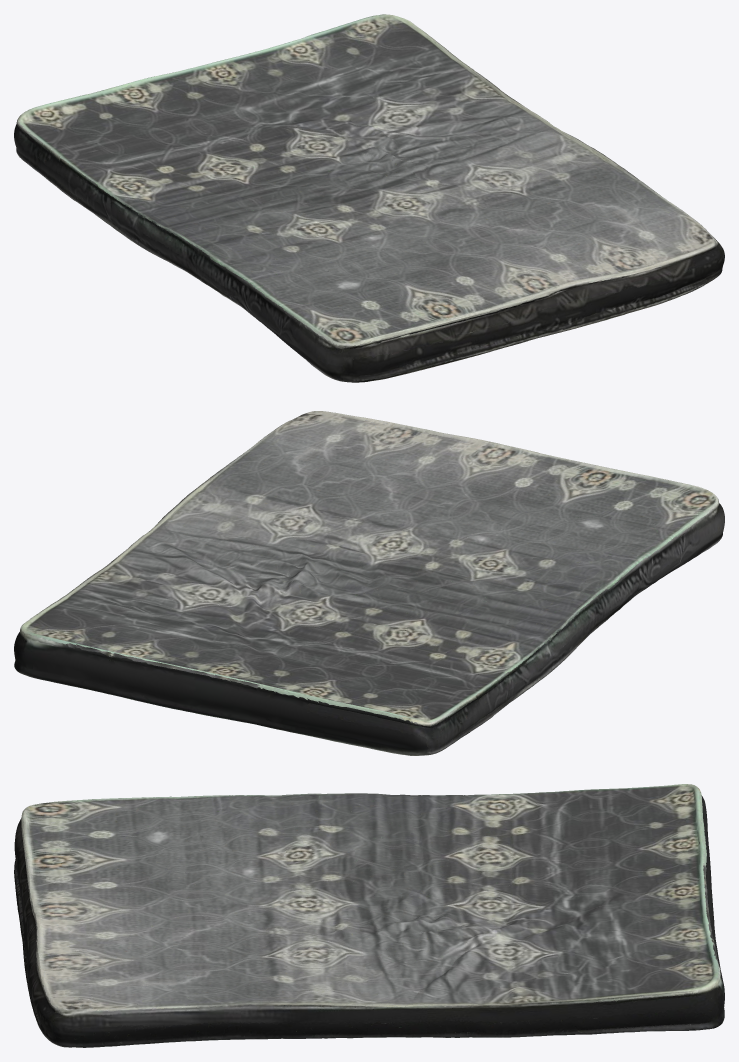
The model's file is mattress-lux3d.glb.
The picture shows the model from 3 angles, top to bottom: view 1: azimuth 30°, elevation 25°; view 2: azimuth 150°, elevation 25°; view 3: azimuth 270°, elevation 25°; orthographic projection. The views are drawn at different scales.
Parts seen in each view (by area): view 1: geometry_0; view 2: geometry_0; view 3: geometry_0.
Boxes of the visible parts, x1,y1,x2,y2 form: geometry_0: [14, 14, 724, 382]; geometry_0: [14, 411, 724, 755]; geometry_0: [14, 784, 724, 1047].
Size of the model in its own units: 2.05 by 0.2472 by 2.74.
Materials: 1 (1 with a texture image).
